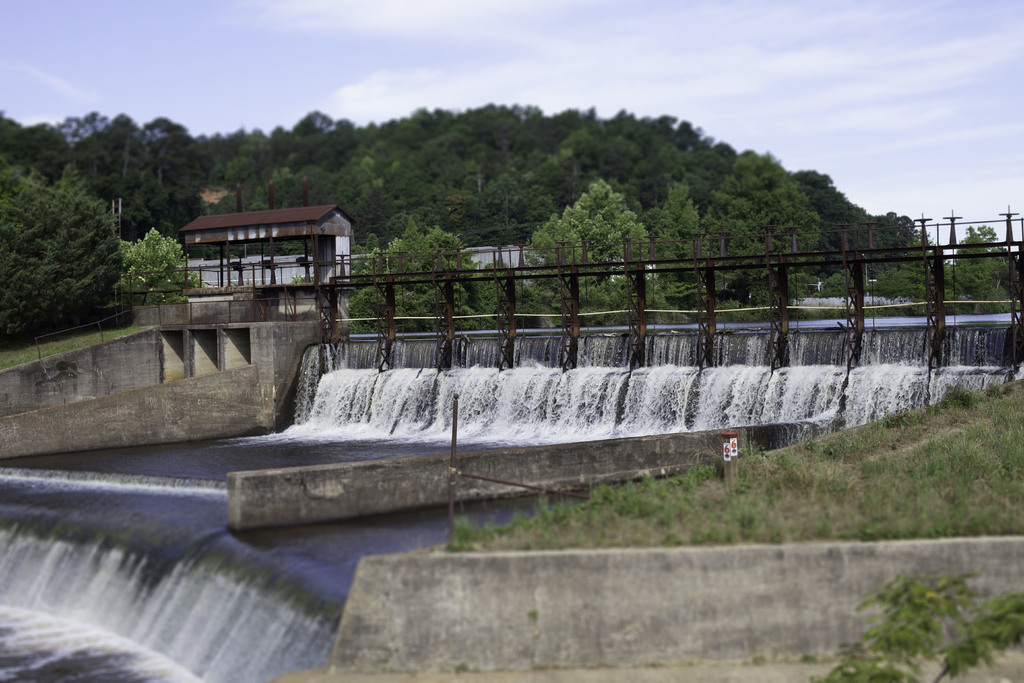Tree: (0, 102, 1023, 341)
